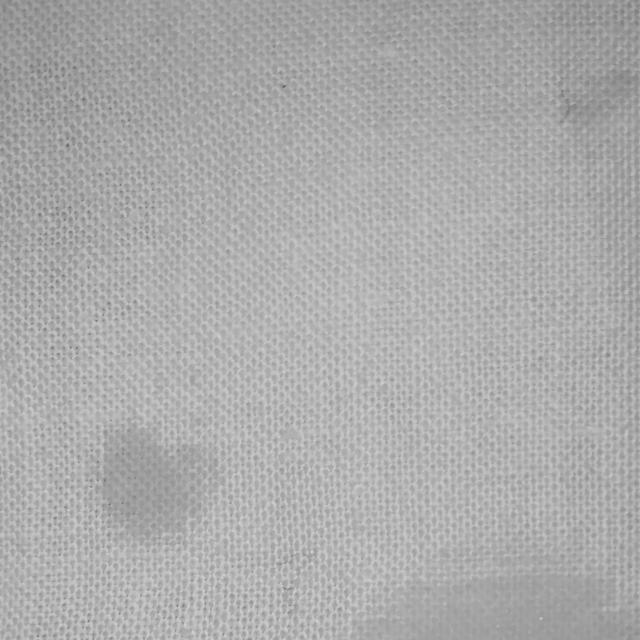Thread_other: (72, 406, 238, 564)
